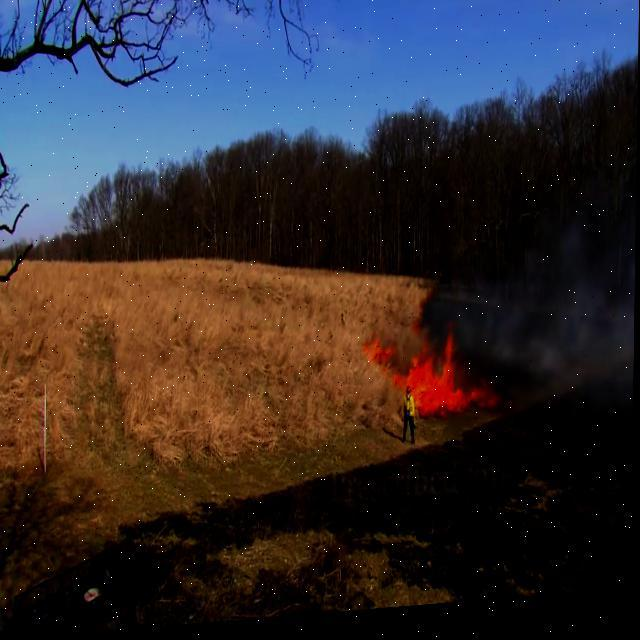Fire: (400, 335, 498, 424), (363, 336, 398, 376)
